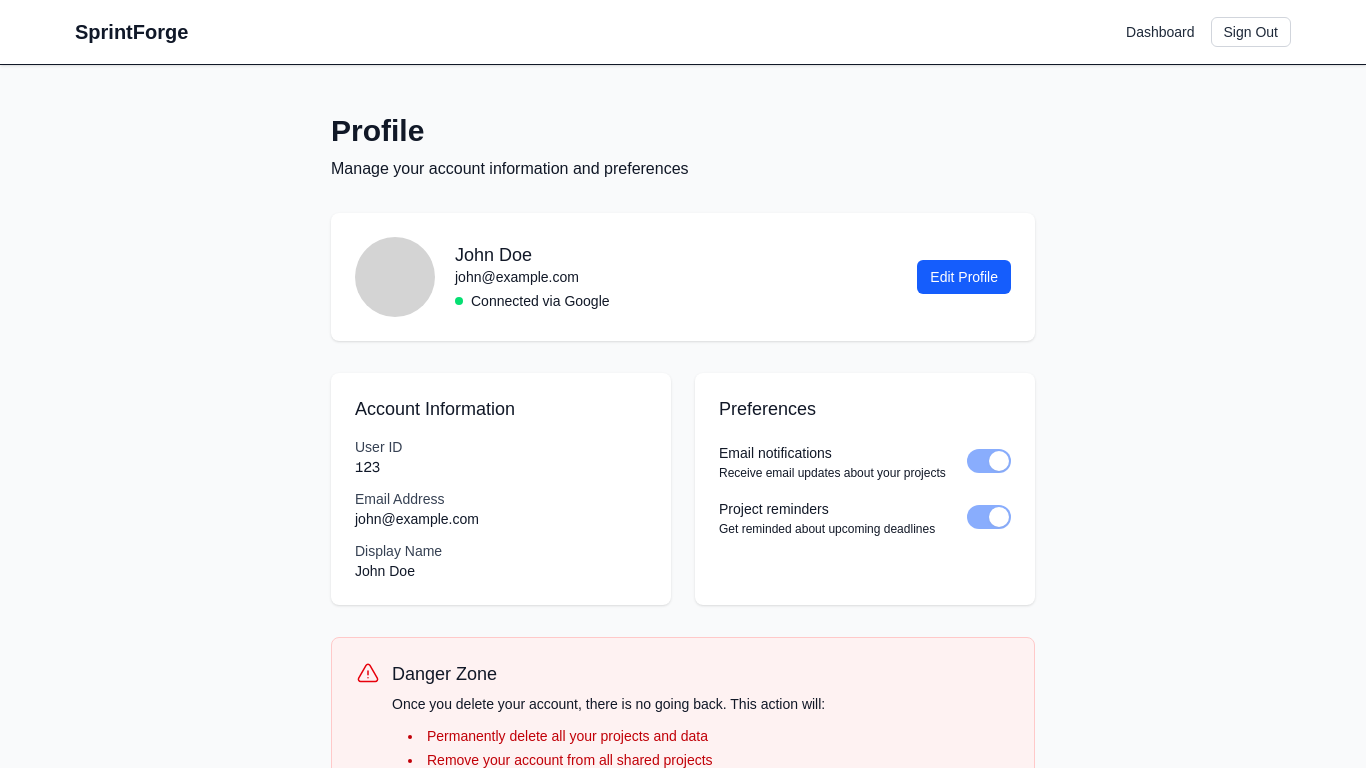
Test case: Profile Page › handles save error
Note: Enter edit mode
Click the button "Edit Profile" at [964, 277], box [917,260,1011,294]
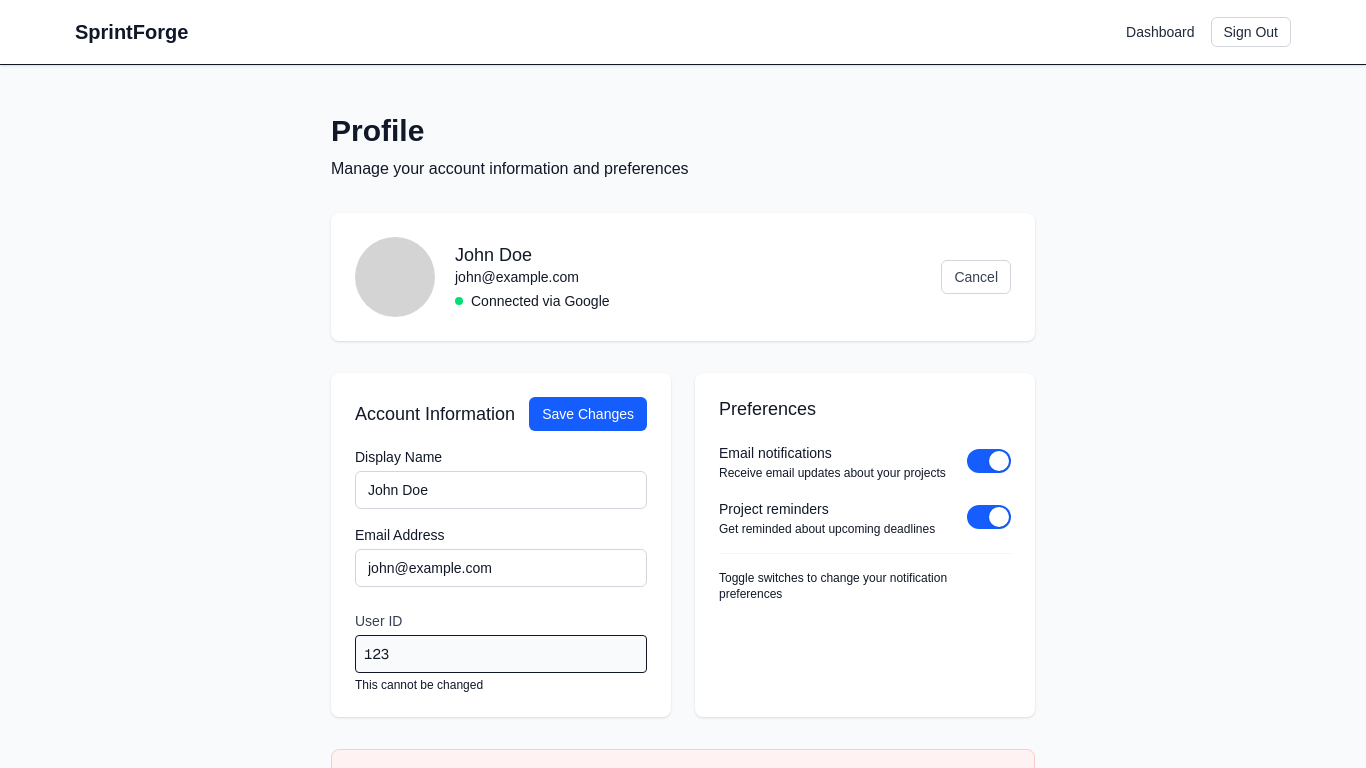
Note: Change name
Replace the text in the field showing "John Doe" with "Test User" at [501, 490], box [355,471,647,509]
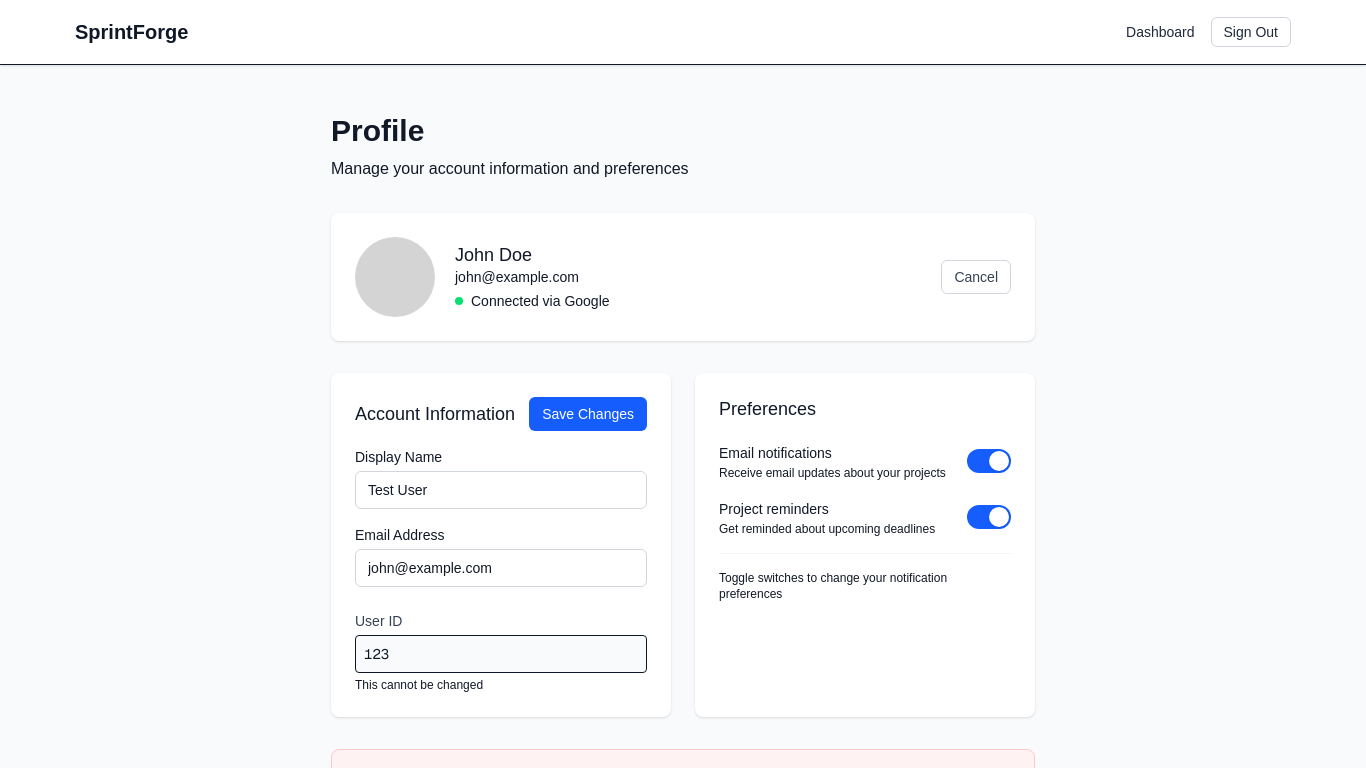
Note: Save changes
Click the button "Save Changes" at [588, 414], box [529,397,647,431]
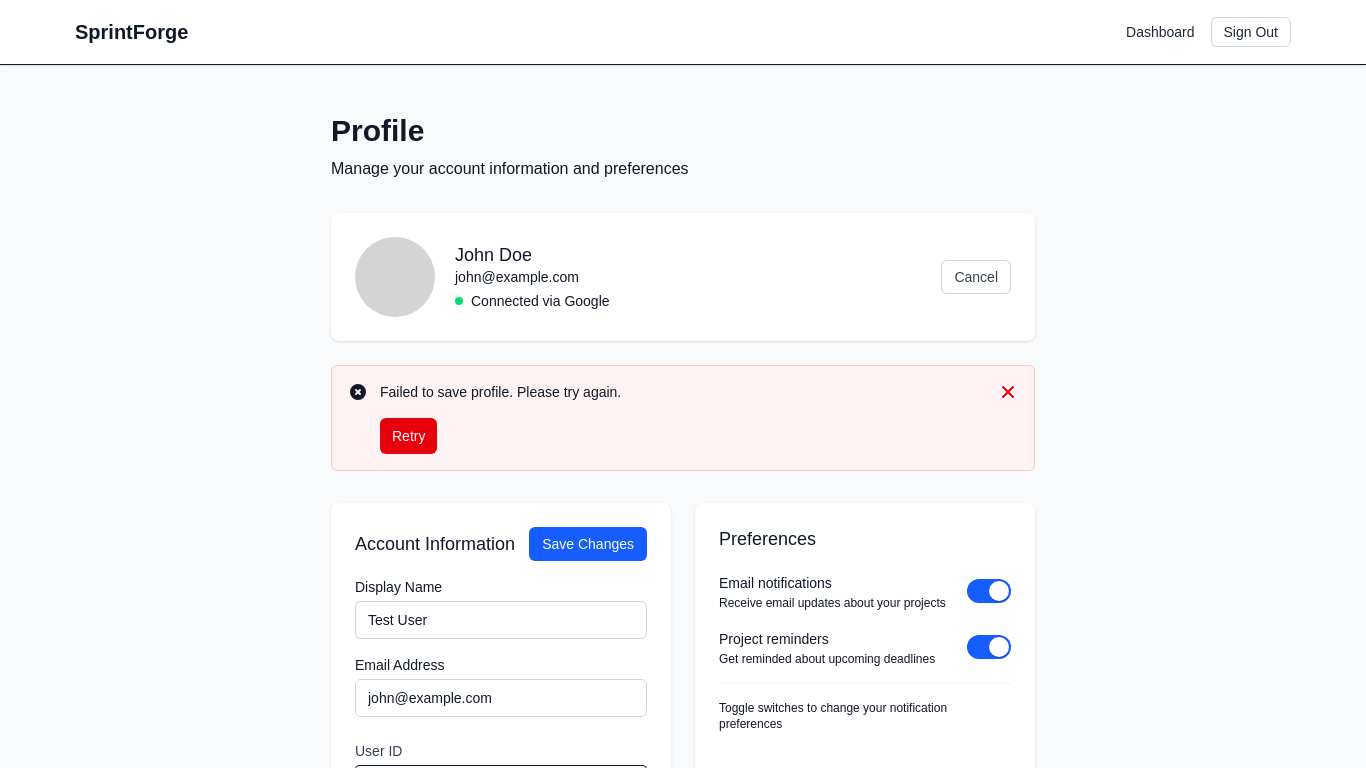
Result: the text "Failed to save profile. Please try again." is shown at [380,384,621,400]
